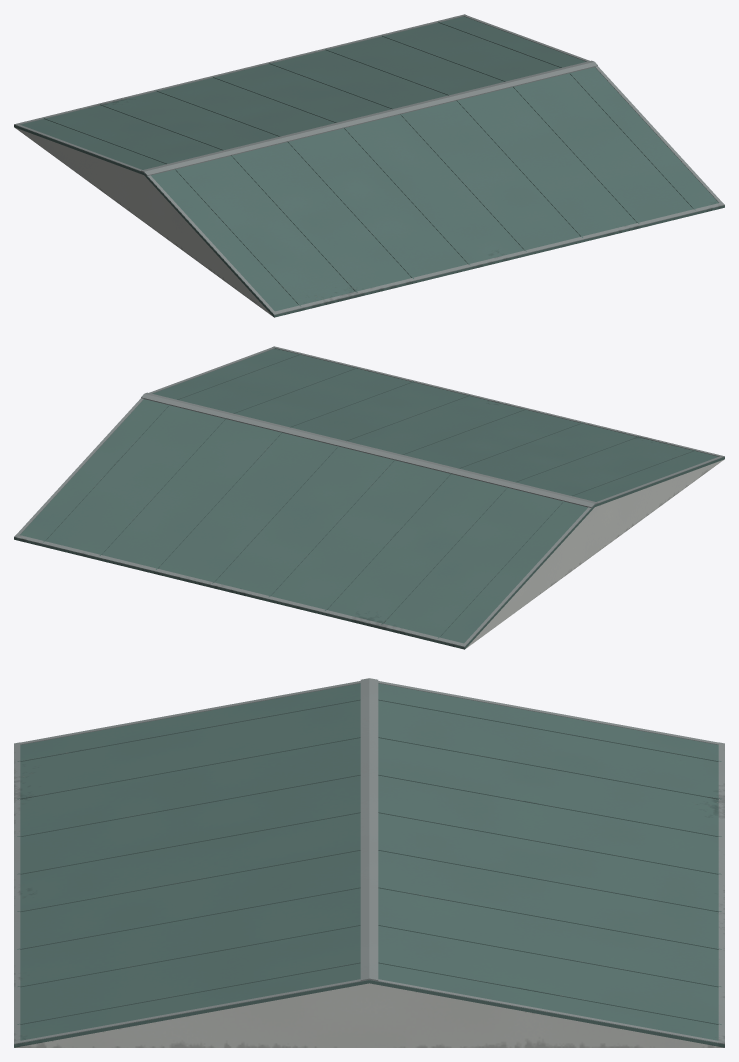
The model's file is metal_roof_8x8.glb.
The picture shows the model from 3 angles, top to bottom: view 1: azimuth 30°, elevation 25°; view 2: azimuth 150°, elevation 25°; view 3: azimuth 270°, elevation 25°; orthographic projection. The views are drawn at different scales.
Parts seen in each view (by area): view 1: MetalRoof; view 2: MetalRoof; view 3: MetalRoof.
Part boxes in pixels (x1,y1,x2,y2): MetalRoof: (14,14,724,317); MetalRoof: (14,346,724,649); MetalRoof: (14,678,724,1047).
Size of the model in its own units: 8 by 0.859 by 8.
Materials: 1 (1 with a texture image).
